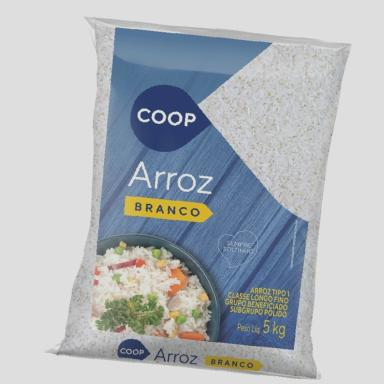rice package: (58, 19, 350, 377)
